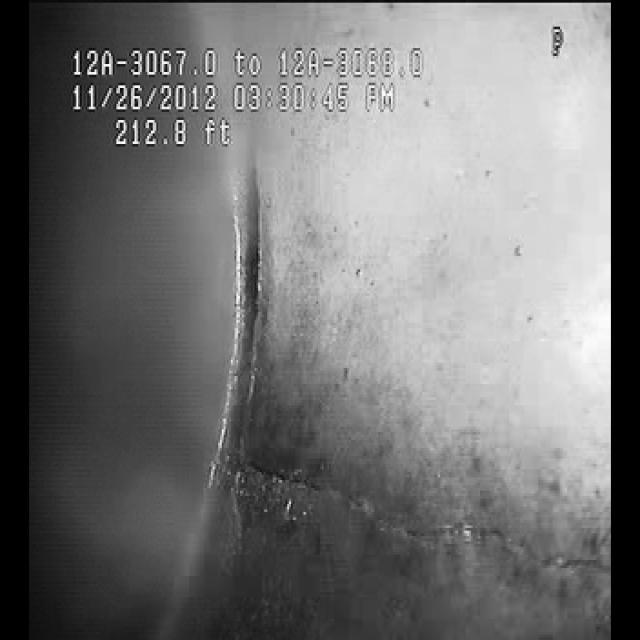Crack: (252, 374, 550, 592)
